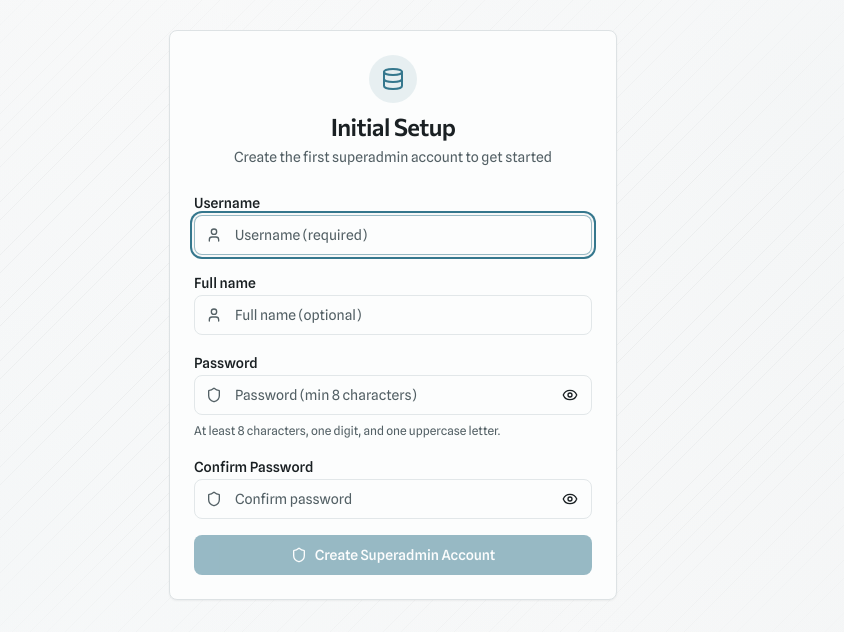
Test case: SetupPage › validates password confirmation match
// Fill form with mismatched passwords
In the field with placeholder "Username (required)": (393, 235) [194,215,592,255], type "testuser"
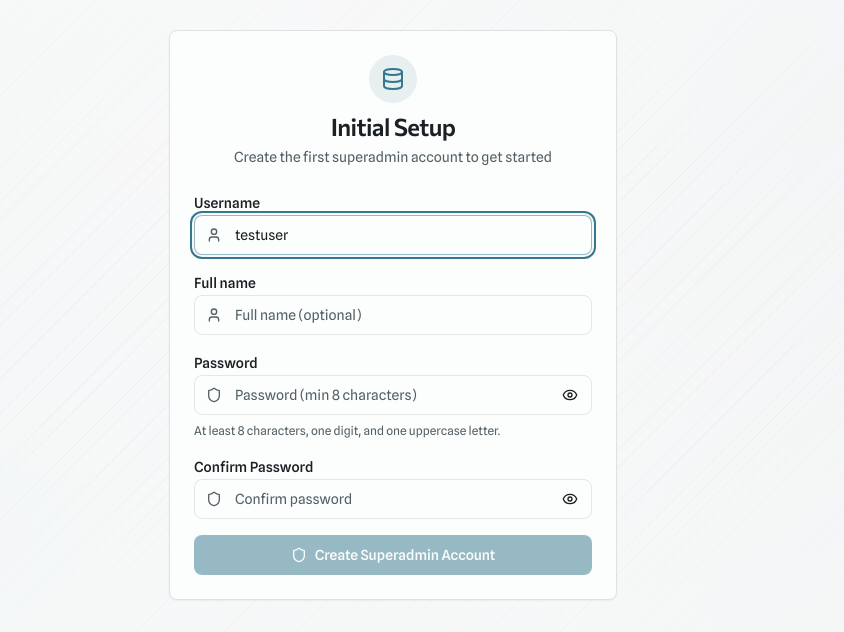
In the password field with placeholder "Password (min 8 characters)": (393, 395) [194,375,592,415], type "password123"
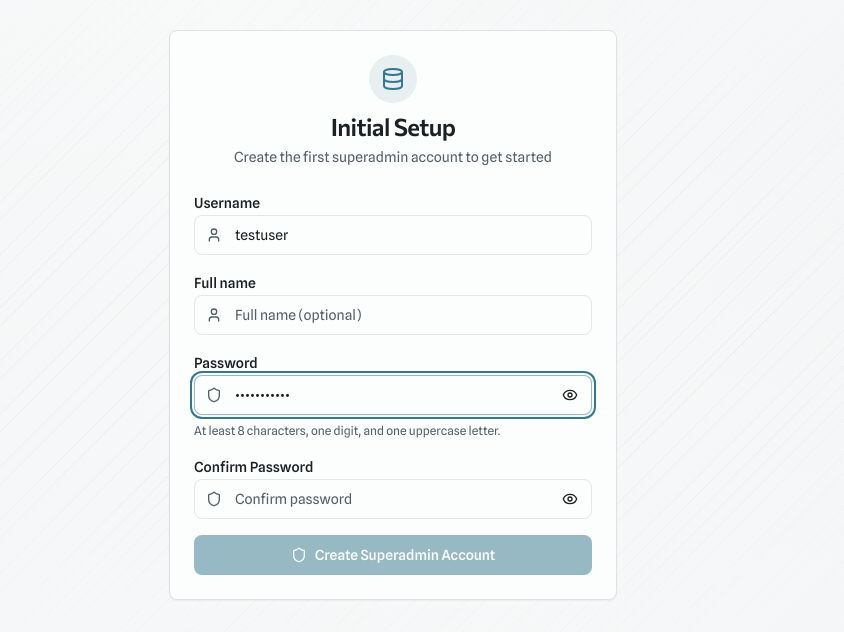
In the password field with placeholder "Confirm Password": (393, 499) [194,479,592,519], type "differentpassword"
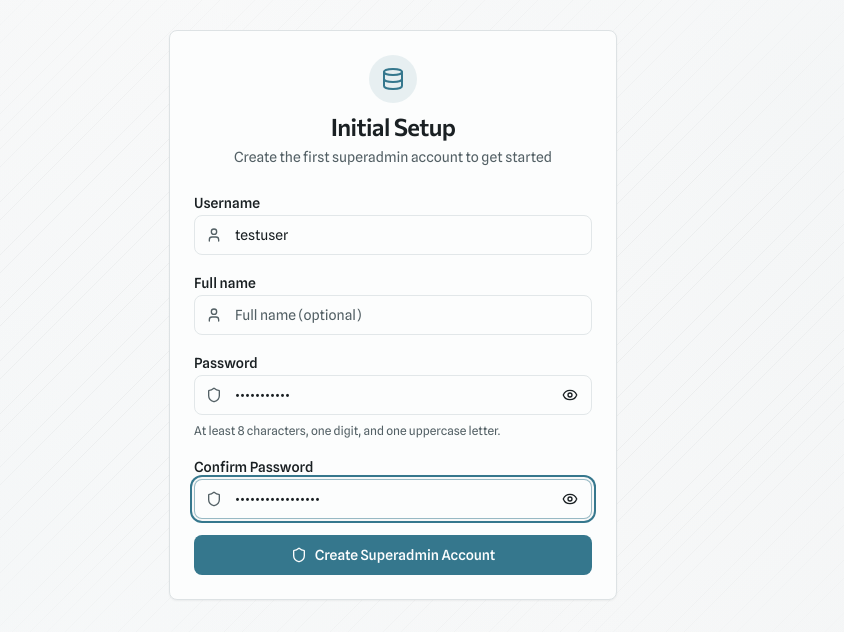
Click the button "Create Superadmin Account": (393, 555) [194,535,592,575]
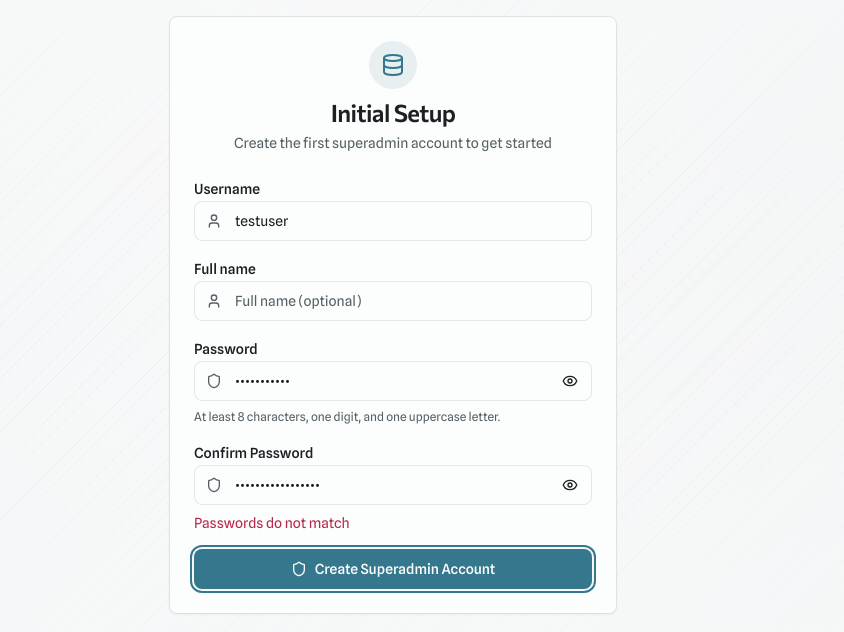
Expected: the text "Passwords do not match" is shown, [194,515,350,531]
